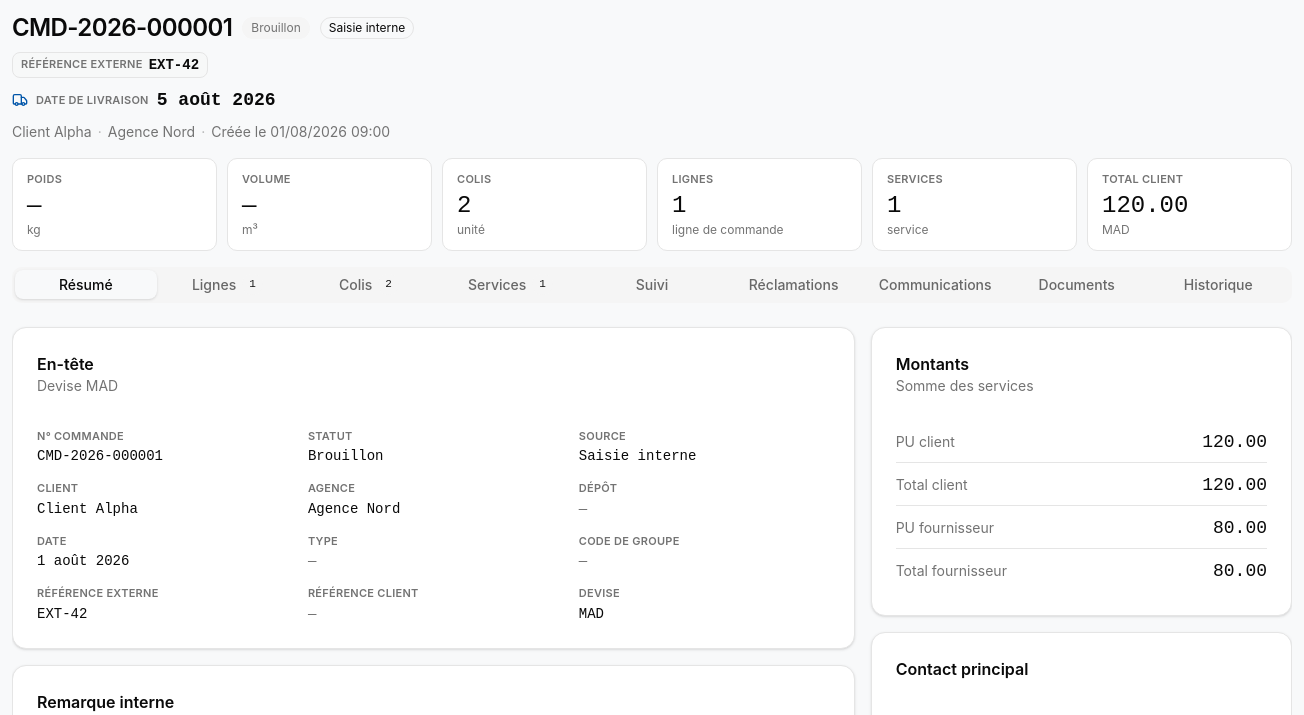
Test: suivi d’une commande › ne renvoie pas vers la configuration sans la permission
Click the tab "Suivi": [652, 284] box [581, 270, 723, 299]
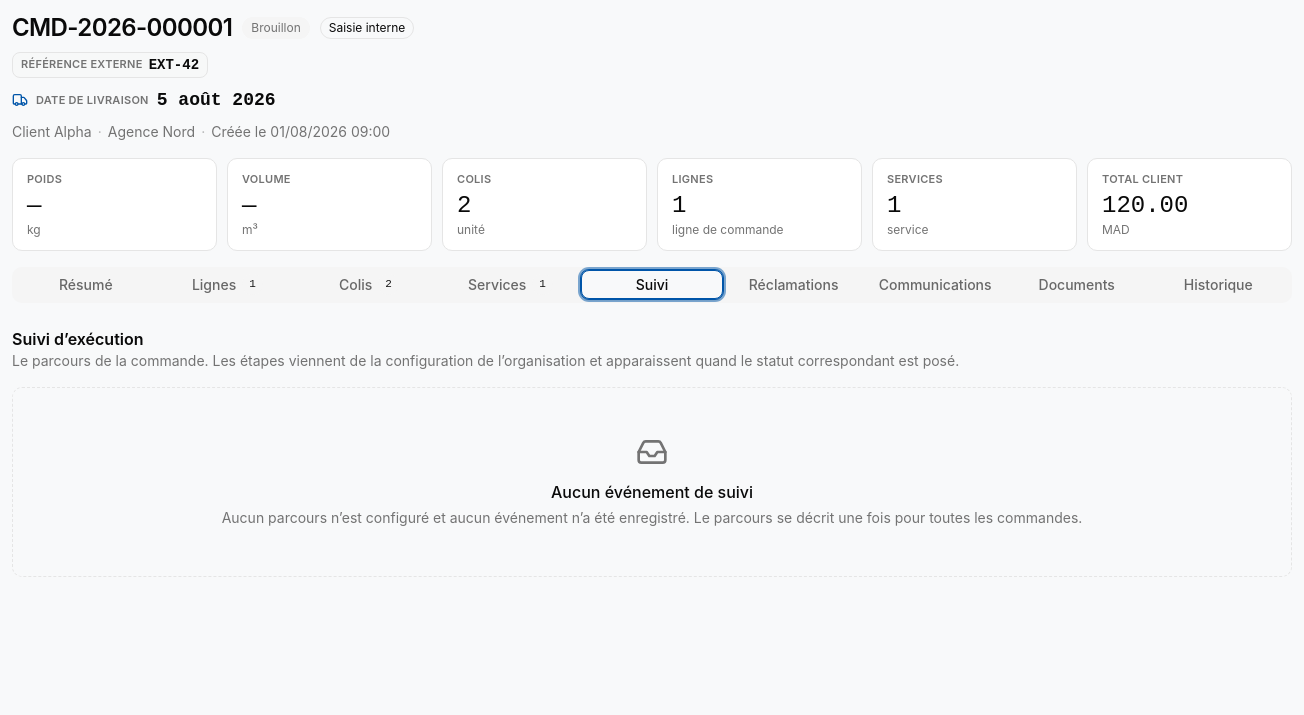
Expected: the text "Aucun événement de suivi" is shown, [551, 482, 753, 502]
